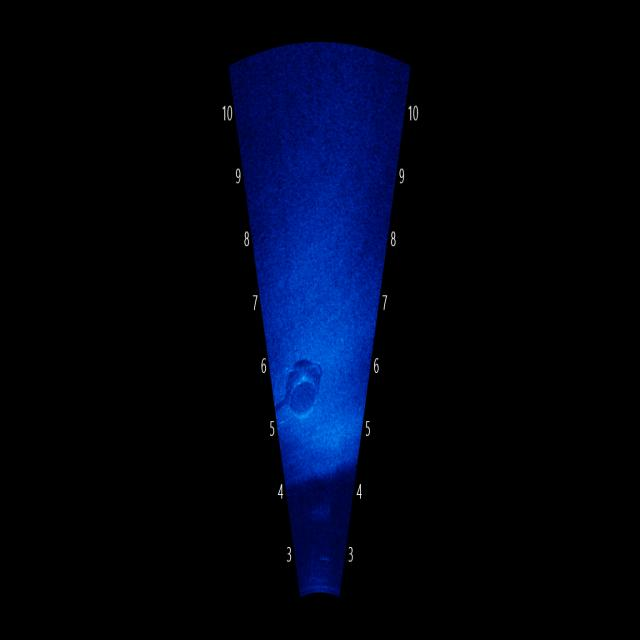circle: (284, 337, 330, 441)
